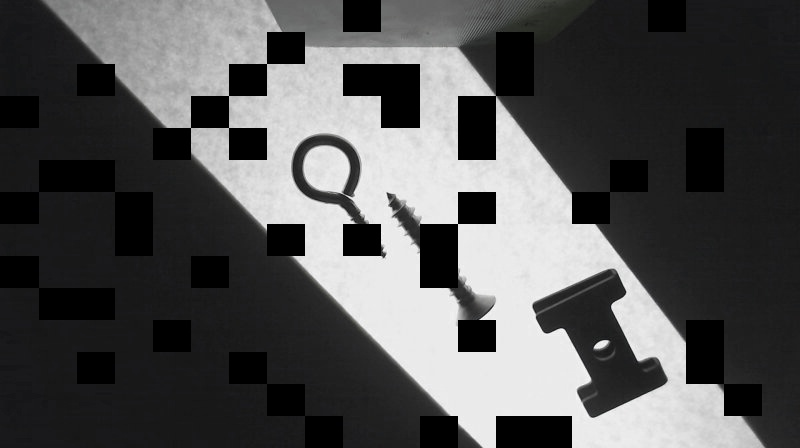O001: (289, 130, 389, 262)
O002: (527, 264, 670, 421)
S001: (380, 189, 500, 330)
